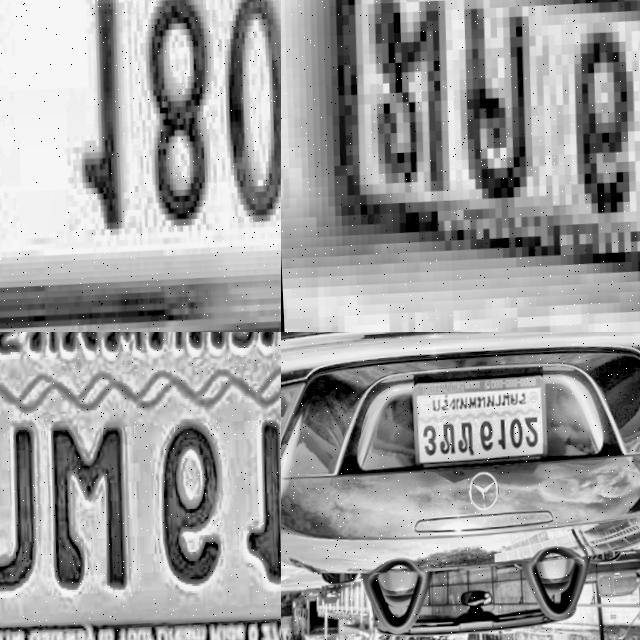license-plate: (306, 0, 640, 332), (0, 0, 281, 332), (0, 332, 281, 640), (405, 369, 547, 480)
